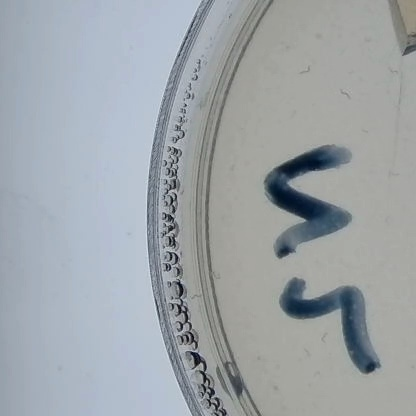worm: (385, 65, 412, 86), (331, 86, 357, 104), (294, 65, 320, 81), (315, 329, 333, 350), (382, 166, 399, 182), (358, 124, 372, 138), (298, 348, 312, 362), (212, 269, 223, 282)
